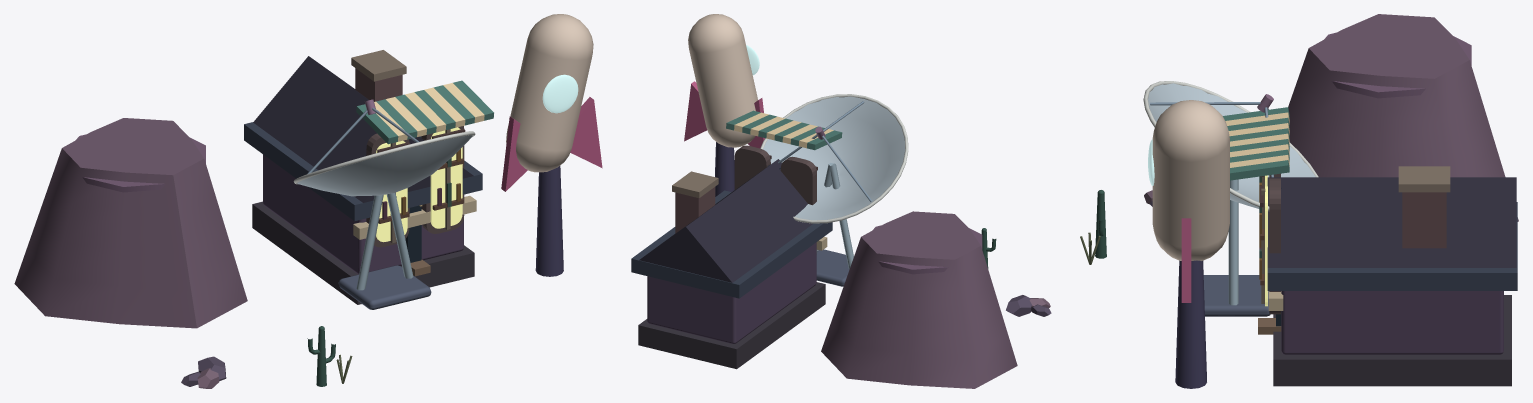
Rendered from moonmile-map.glb.
3 views of the same model, side by side, from view 1: azimuth 30°, elevation 25°; view 2: azimuth 150°, elevation 25°; view 3: azimuth 270°, elevation 25° (orthographic). The views are drawn at different scales.
Visible parts, largest first — view 1: place-static, rocket-sign, radio-bowl; view 2: place-static, radio-bowl, rocket-sign; view 3: place-static, rocket-sign, radio-bowl.
Part boxes in pixels (x1,y1,x2,y2): place-static: (14,50,493,388); rocket-sign: (501,14,602,276); radio-bowl: (293,99,475,196); place-static: (631,110,1051,388); radio-bowl: (760,94,908,223); rocket-sign: (684,14,764,196); place-static: (1080,14,1518,386); rocket-sign: (1148,100,1229,388); radio-bowl: (1143,81,1318,210).
Size of the model in its own units: 5.85 by 3.23 by 4.14.
